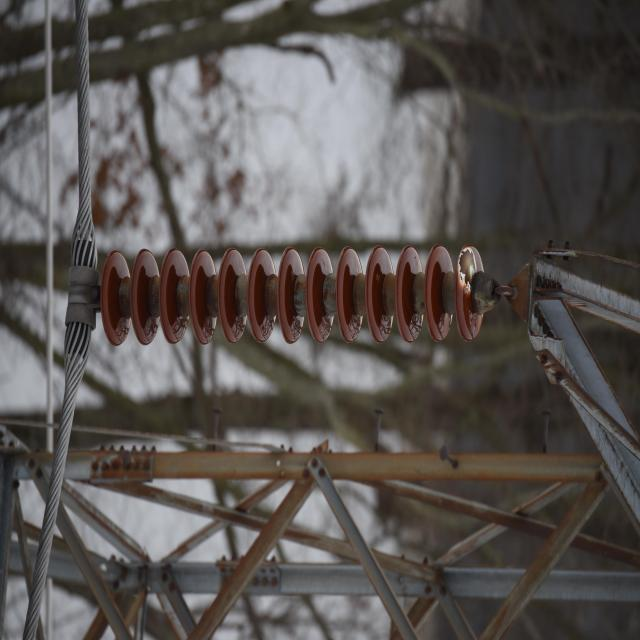insulator: (99, 244, 483, 344)
